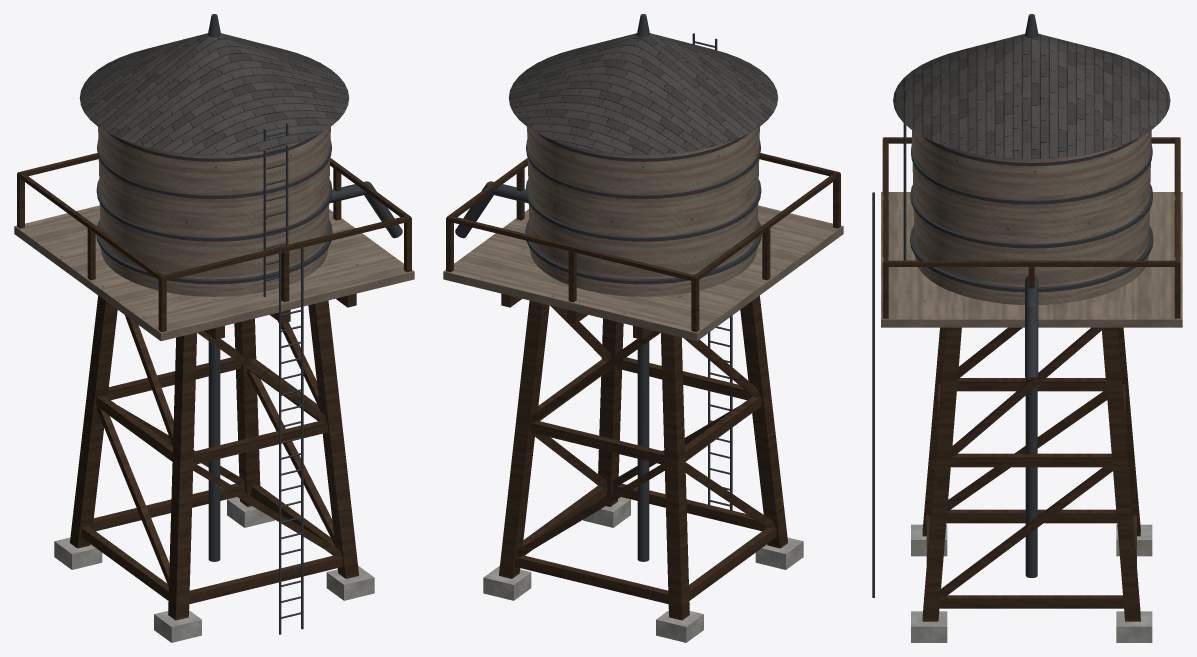
Rendered from farm-water-tower.glb.
3 renders of one model, left to right at view 1: azimuth 30°, elevation 25°; view 2: azimuth 150°, elevation 25°; view 3: azimuth 270°, elevation 25°, orthographic. The views are drawn at different scales.
Parts seen in each view (by area): view 1: WaterTower; view 2: WaterTower; view 3: WaterTower.
Boxes of the visible parts, <box> form: WaterTower: <box>14,14,414,642</box>; WaterTower: <box>443,14,843,642</box>; WaterTower: <box>872,14,1182,642</box>.
Size of the model in its own units: 6.19 by 10.55 by 5.14.
5 materials, 4 textured.
